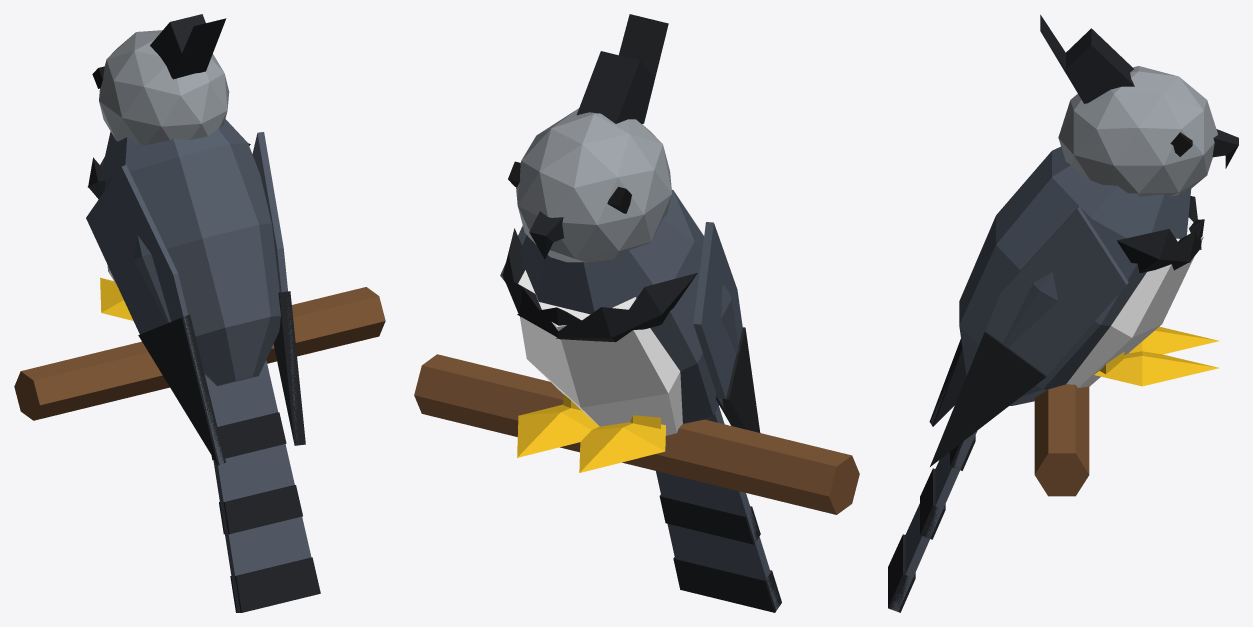
File: gaviao_real.glb
3 renders of one model, left to right at view 1: azimuth 30°, elevation 25°; view 2: azimuth 150°, elevation 25°; view 3: azimuth 270°, elevation 25°, orthographic. The views are drawn at different scales.
Visible parts, largest first — view 1: corpo; view 2: corpo; view 3: corpo.
Part boxes in pixels (left/top/right/bottom): corpo: left=14, top=14, right=385, bottom=612; corpo: left=414, top=14, right=859, bottom=612; corpo: left=888, top=14, right=1238, bottom=612.
Size of the model in its own units: 0.6785 by 1 by 0.5582.
